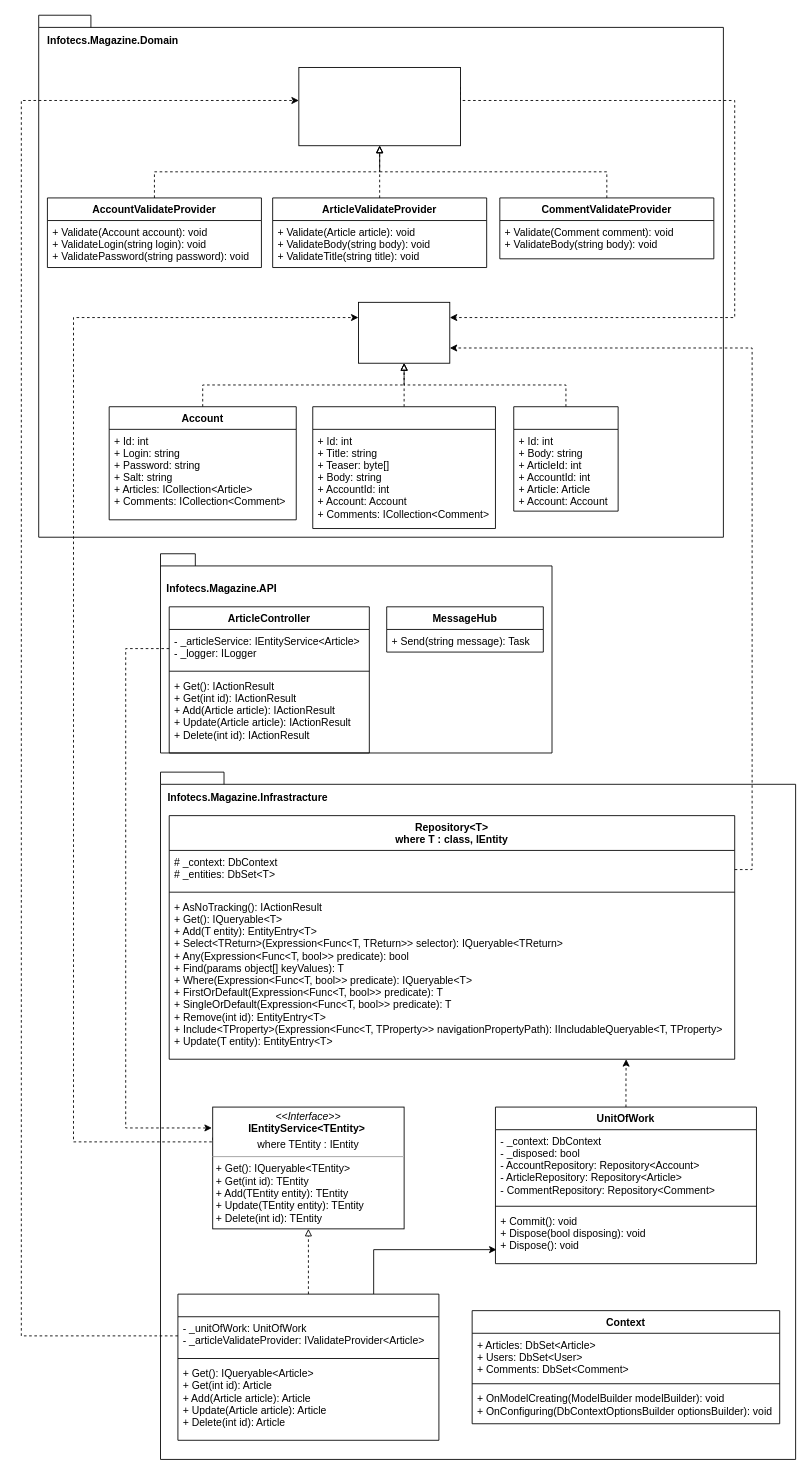
Some shapes in this 811 by 1475 pixel diagram are drawn without their labels. The shapes that lost their labels are listed below. From the top down, each one's box as (x1, y1, x2, y2) in pixels, then its label:
(298, 67, 460, 146): <<Interface>> IValidateProvider<T> where T : IEntity + Validate(T entity): void
(358, 301, 450, 363): <<Interface>> IEntity + Id: int
(312, 406, 495, 529): Article
(513, 406, 618, 511): Comment
(177, 1293, 439, 1440): ArticleService
